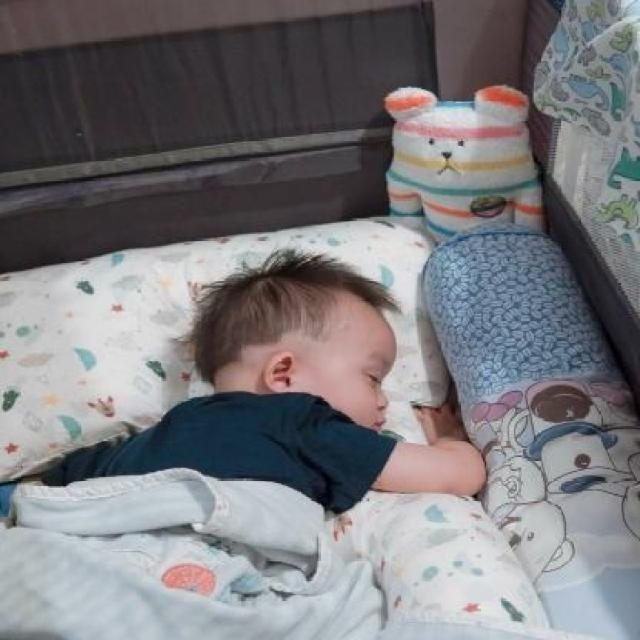baby: (44, 256, 484, 570)
